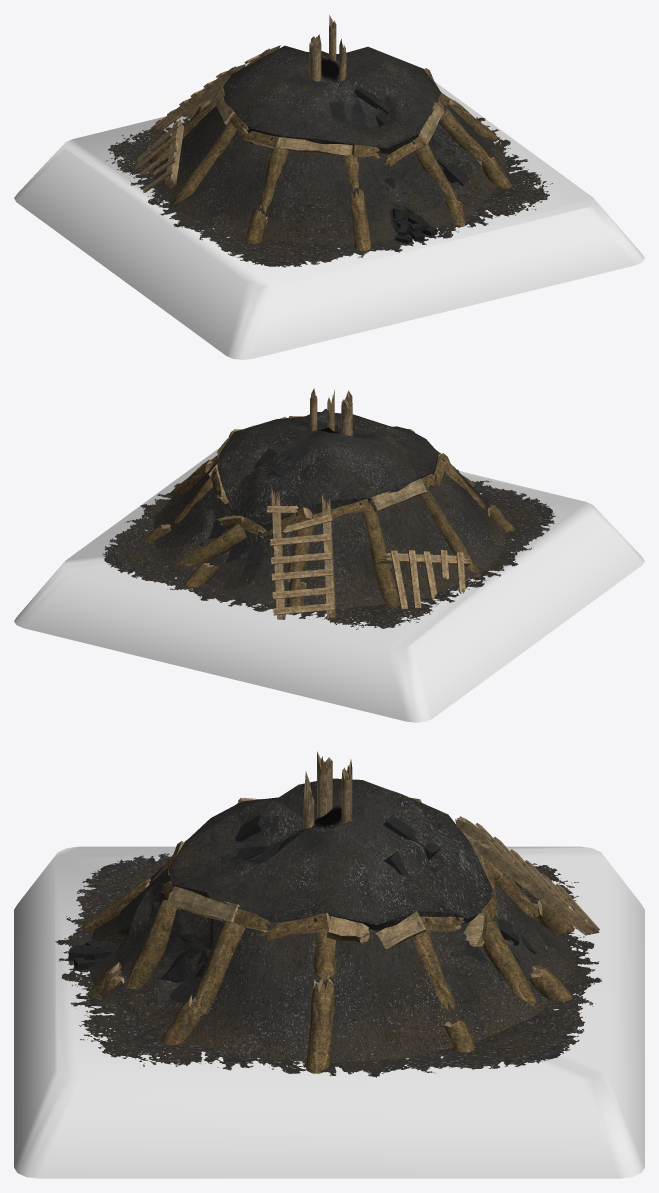
The model's file is CoalerPile_Destroyed_Stage2.fbx.
3 views of the same model, one above another, from view 1: azimuth 30°, elevation 25°; view 2: azimuth 150°, elevation 25°; view 3: azimuth 270°, elevation 25° (orthographic). The views are drawn at different scales.
Parts seen in each view (by area): view 1: CoalerPile_Destroyed_Stage2, CoalerPile_Base_Destroyed_Stage2; view 2: CoalerPile_Destroyed_Stage2, CoalerPile_Base_Destroyed_Stage2; view 3: CoalerPile_Destroyed_Stage2, CoalerPile_Base_Destroyed_Stage2.
Part boxes in pixels (x1,y1,x2,y2): CoalerPile_Destroyed_Stage2: (105,15,552,267); CoalerPile_Base_Destroyed_Stage2: (14,82,644,359); CoalerPile_Destroyed_Stage2: (102,388,555,629); CoalerPile_Base_Destroyed_Stage2: (14,424,644,722); CoalerPile_Destroyed_Stage2: (55,751,602,1077); CoalerPile_Base_Destroyed_Stage2: (14,846,644,1178).
Size of the model in its own units: 796 by 378 by 758.
